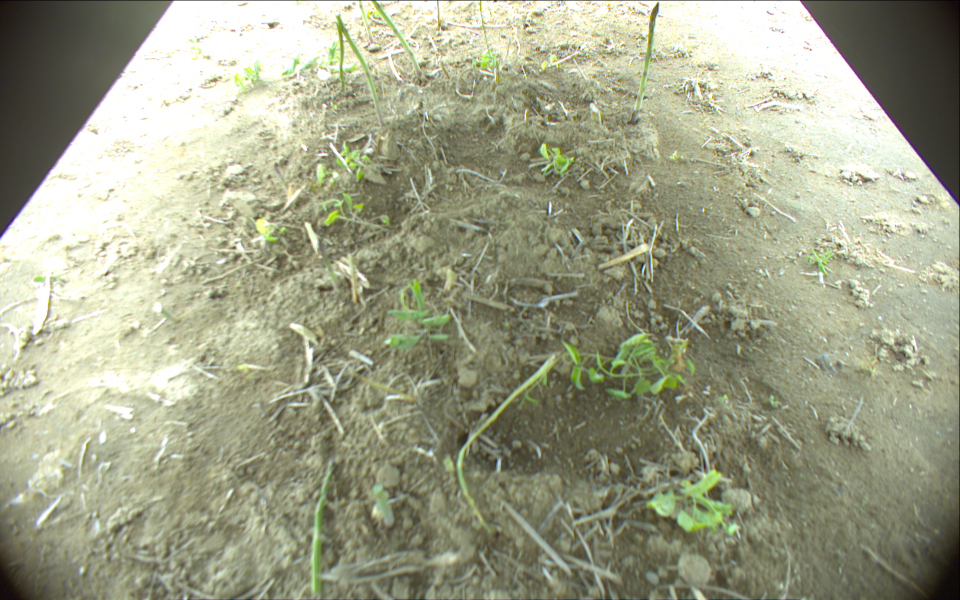aspa: (454, 353, 557, 526), (336, 18, 386, 127), (308, 459, 338, 600), (629, 1, 664, 121), (371, 1, 423, 75), (316, 237, 341, 290), (477, 1, 496, 61), (336, 21, 347, 91), (357, 1, 374, 45), (273, 164, 293, 192), (349, 252, 358, 300), (492, 57, 503, 82), (437, 1, 441, 26)
